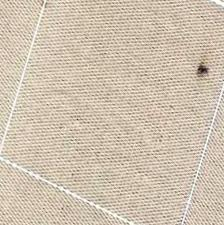stain: (195, 61, 214, 80)
